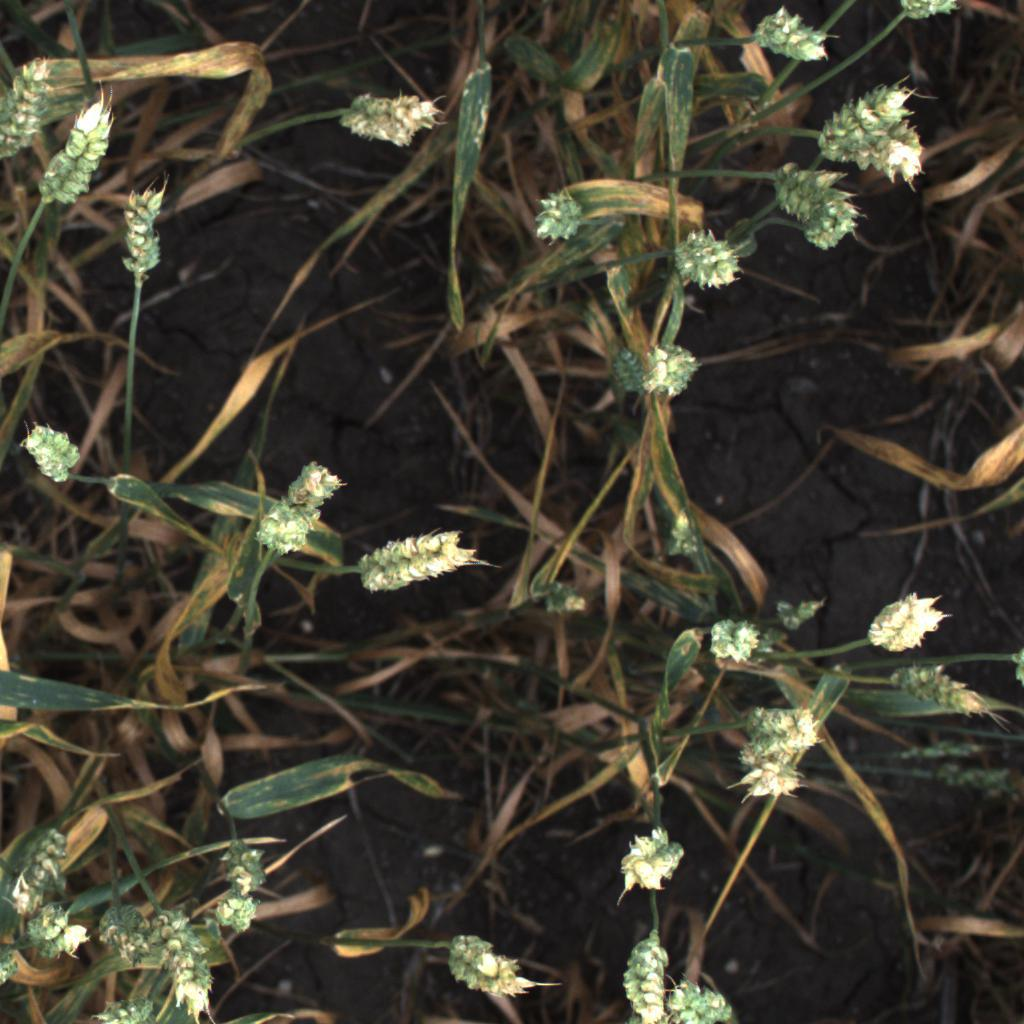0-0: (353, 517, 487, 603), (436, 919, 561, 1005), (34, 98, 117, 209), (147, 907, 231, 1015), (879, 657, 999, 732), (811, 87, 914, 168), (606, 811, 695, 904), (334, 87, 445, 157), (853, 584, 952, 656), (745, 5, 840, 78), (611, 926, 677, 1024), (8, 814, 72, 912), (107, 182, 170, 280), (725, 704, 829, 763), (265, 470, 333, 557), (694, 612, 770, 687), (0, 56, 56, 155), (668, 225, 746, 293), (770, 162, 845, 231), (92, 891, 153, 970), (863, 121, 932, 187), (17, 899, 88, 963), (662, 973, 747, 1024), (22, 415, 83, 485), (220, 841, 266, 931), (717, 755, 814, 797), (646, 334, 705, 403), (659, 499, 716, 570), (805, 195, 865, 255), (532, 183, 588, 247), (769, 590, 834, 638), (76, 989, 163, 1024), (603, 344, 647, 401)
